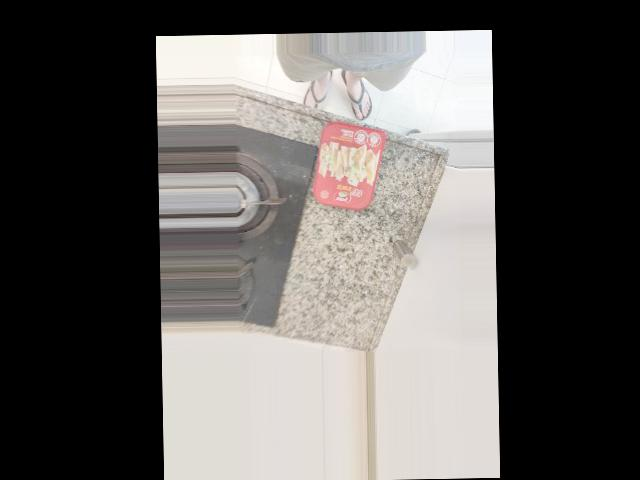cheese: (290, 193, 381, 304)
